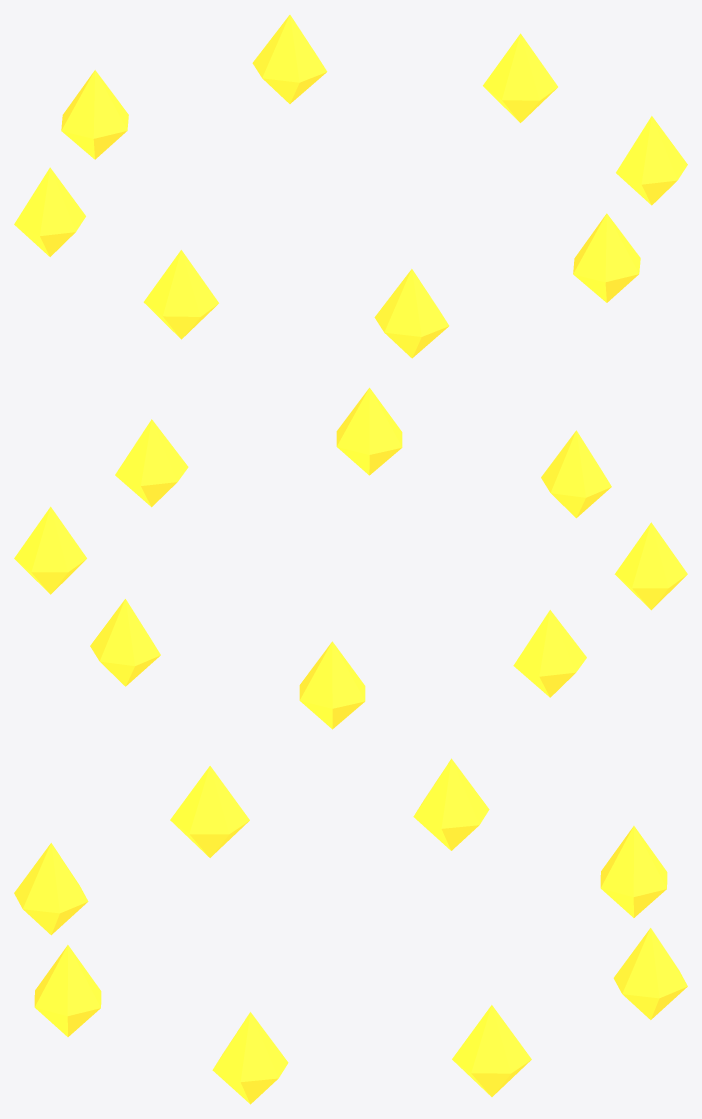
File: CandleLight_ChT_01.fbx
The picture shows the model from 3 angles, top to bottom: view 1: azimuth 30°, elevation 25°; view 2: azimuth 150°, elevation 25°; view 3: azimuth 270°, elevation 25°; orthographic projection. The views are drawn at different scales.
Parts seen in each view (by area): view 1: CandleLight_ChT_01; view 2: CandleLight_ChT_01; view 3: CandleLight_ChT_01.
Part boxes in pixels (x1=…): CandleLight_ChT_01: x1=14, y1=15, x2=687, y2=358; CandleLight_ChT_01: x1=14, y1=387, x2=687, y2=729; CandleLight_ChT_01: x1=14, y1=758, x2=687, y2=1104.
Bounding box in the file's own units: 373 × 56.65 × 373.
